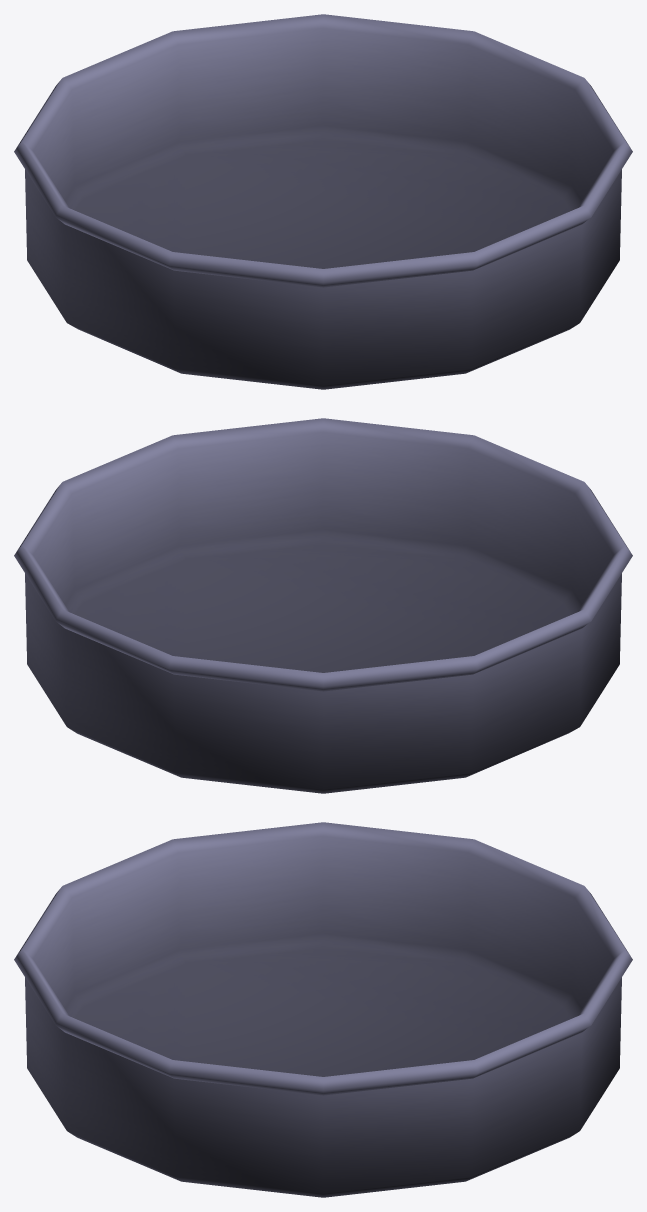
File: m_CakePan01.fbx
3 renders of one model, top to bottom at view 1: azimuth 30°, elevation 25°; view 2: azimuth 150°, elevation 25°; view 3: azimuth 270°, elevation 25°, orthographic.
Visible parts, largest first — view 1: m_CakePan01; view 2: m_CakePan01; view 3: m_CakePan01.
Boxes of the visible parts, x1,y1,x2,y2 form: m_CakePan01: (14, 14, 632, 389); m_CakePan01: (14, 418, 632, 793); m_CakePan01: (14, 822, 632, 1197).
Bounding box in the file's own units: 30.49 × 6.96 × 30.49.
